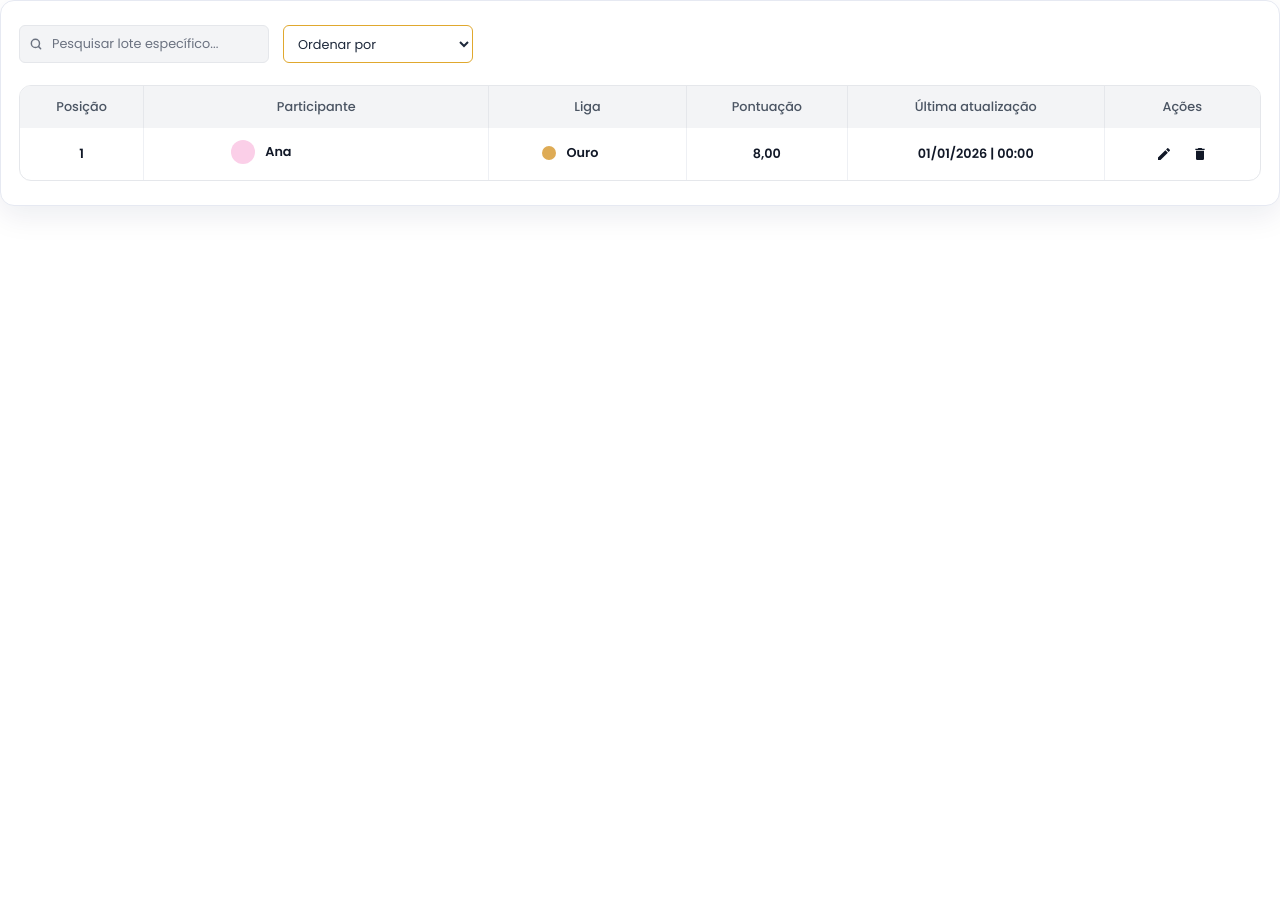
it: Editar Ana › confirma exclusão e mostra falhas sem perder os dados
Step 1. Click the button named "Excluir Ana" → (1200,154), box x1=1184 y1=138 x2=1216 y2=170
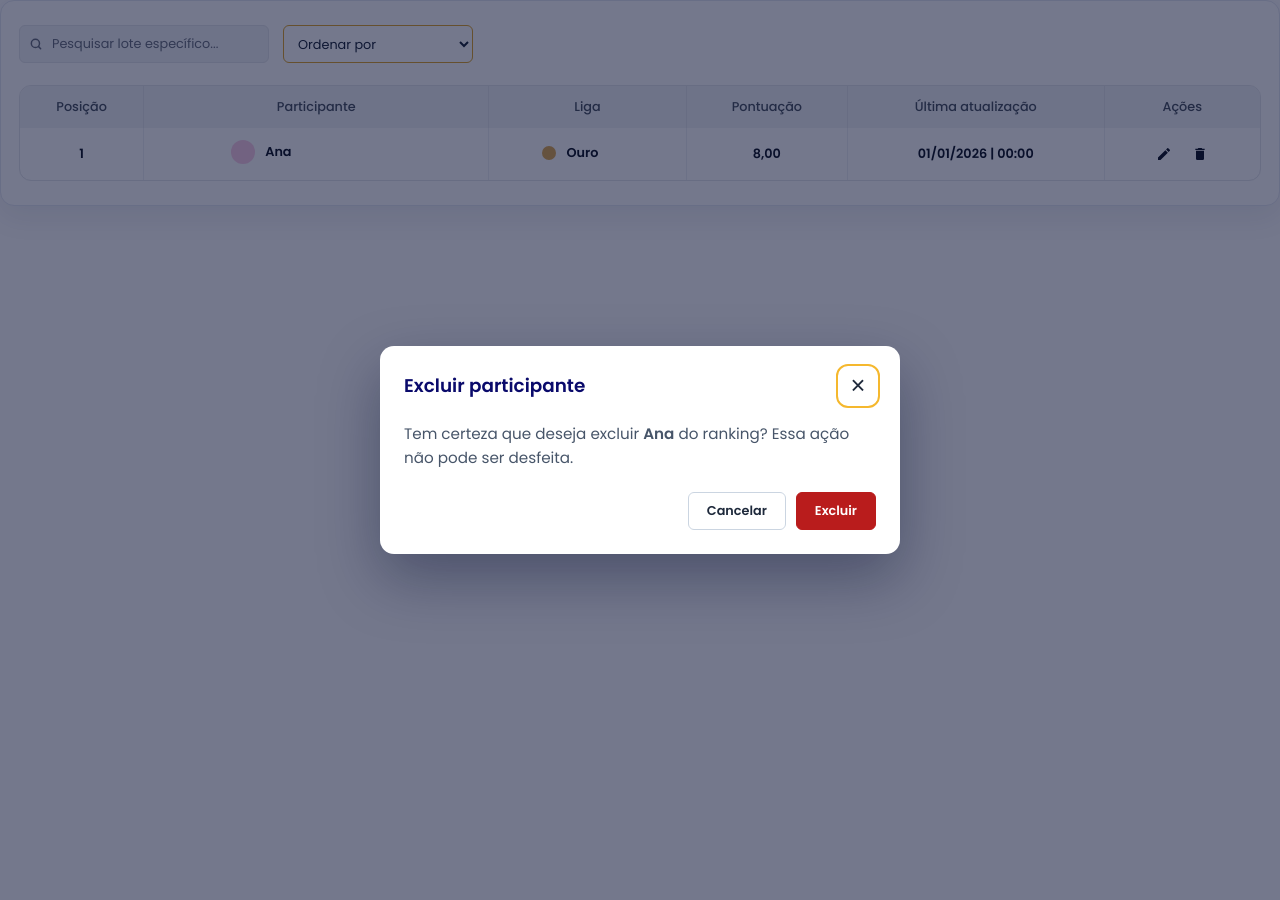
Step 2. Click the button "Excluir" → (836,511), box x1=796 y1=492 x2=876 y2=530
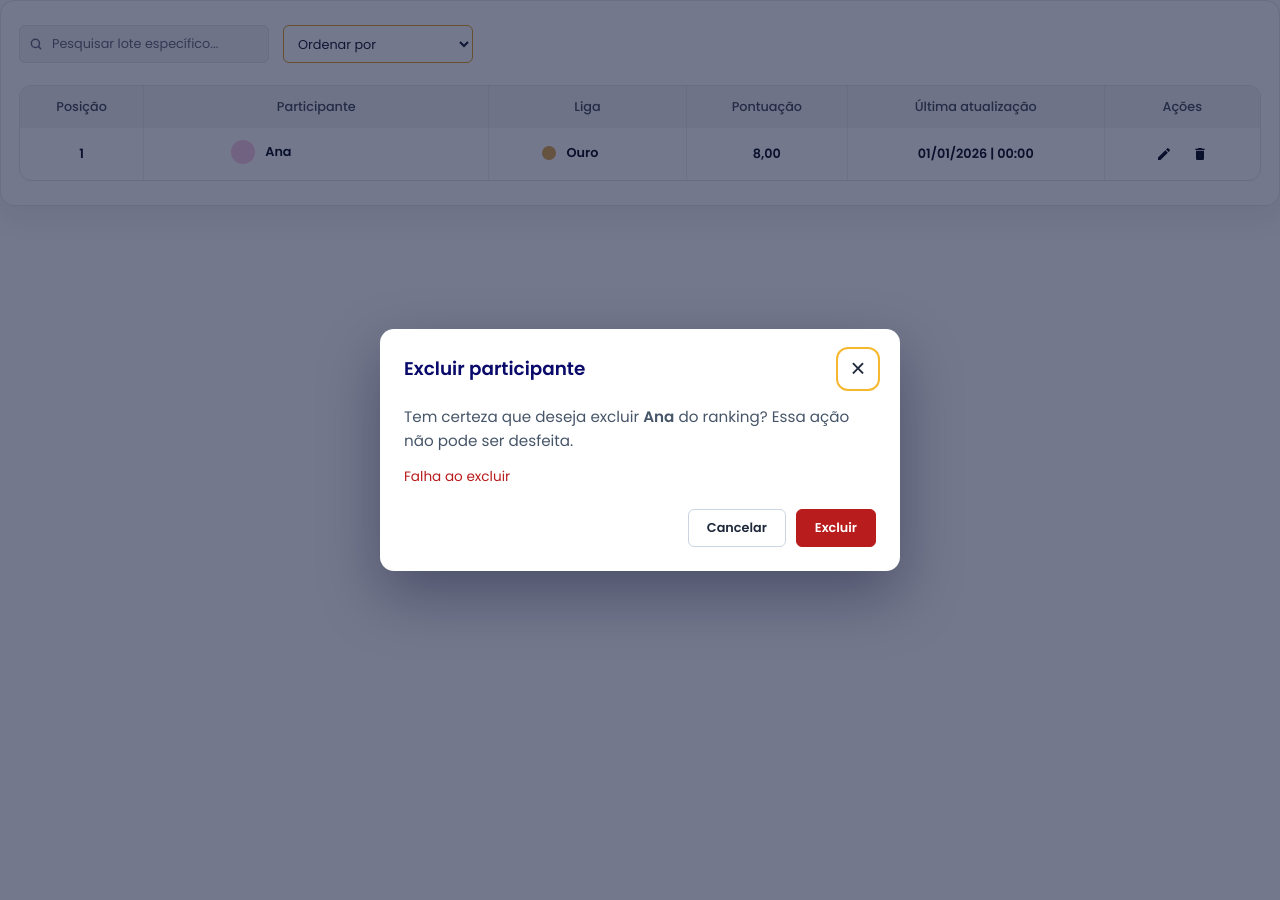
Now the text "Falha ao excluir" is shown, box x1=404 y1=467 x2=510 y2=486
Step 3. Click the button "Excluir" → (836,528), box x1=796 y1=509 x2=876 y2=547
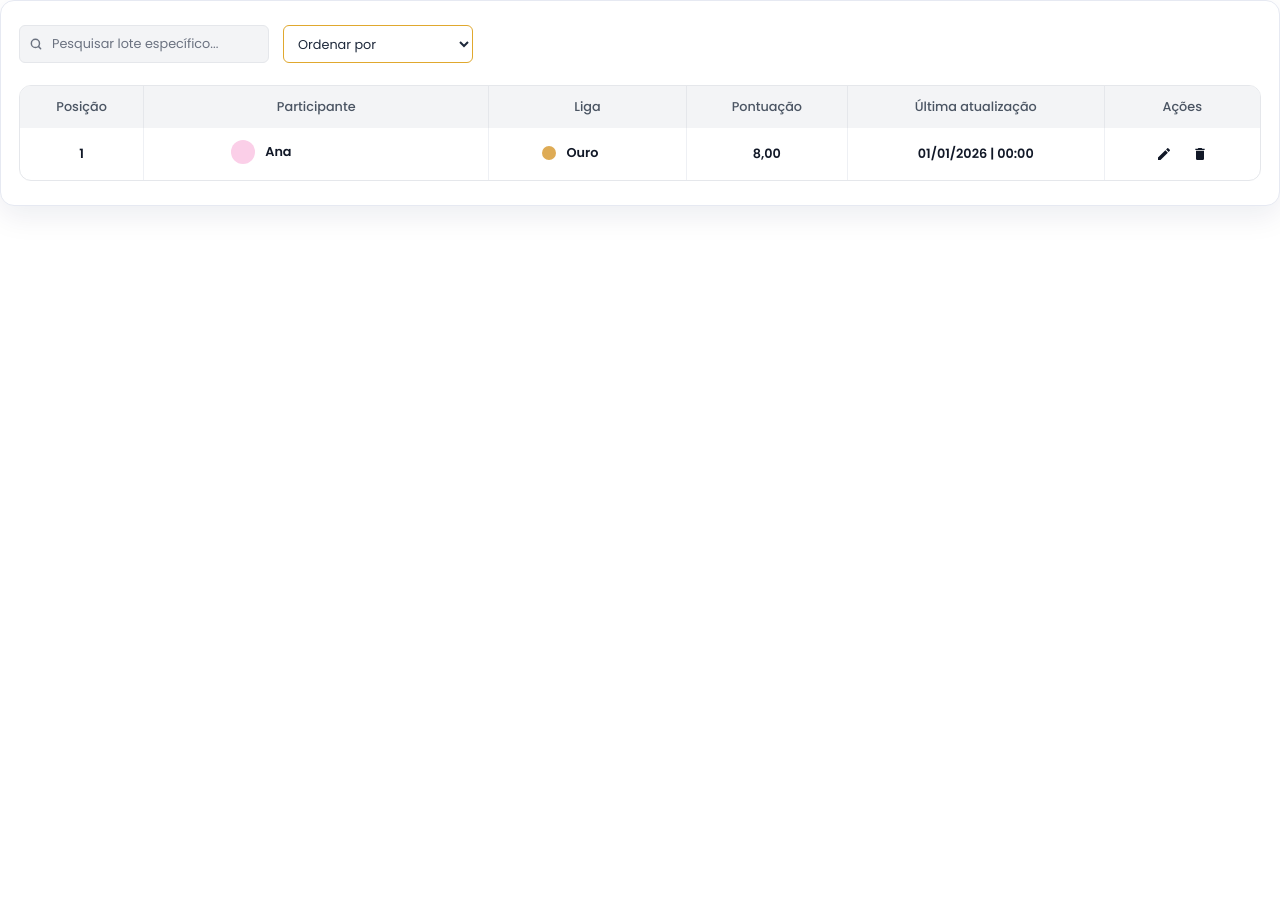
Now the dialog is gone
